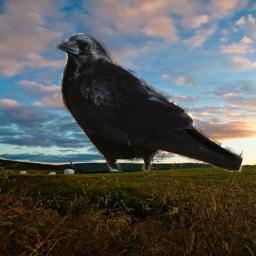Crow: (54, 33, 244, 172)
